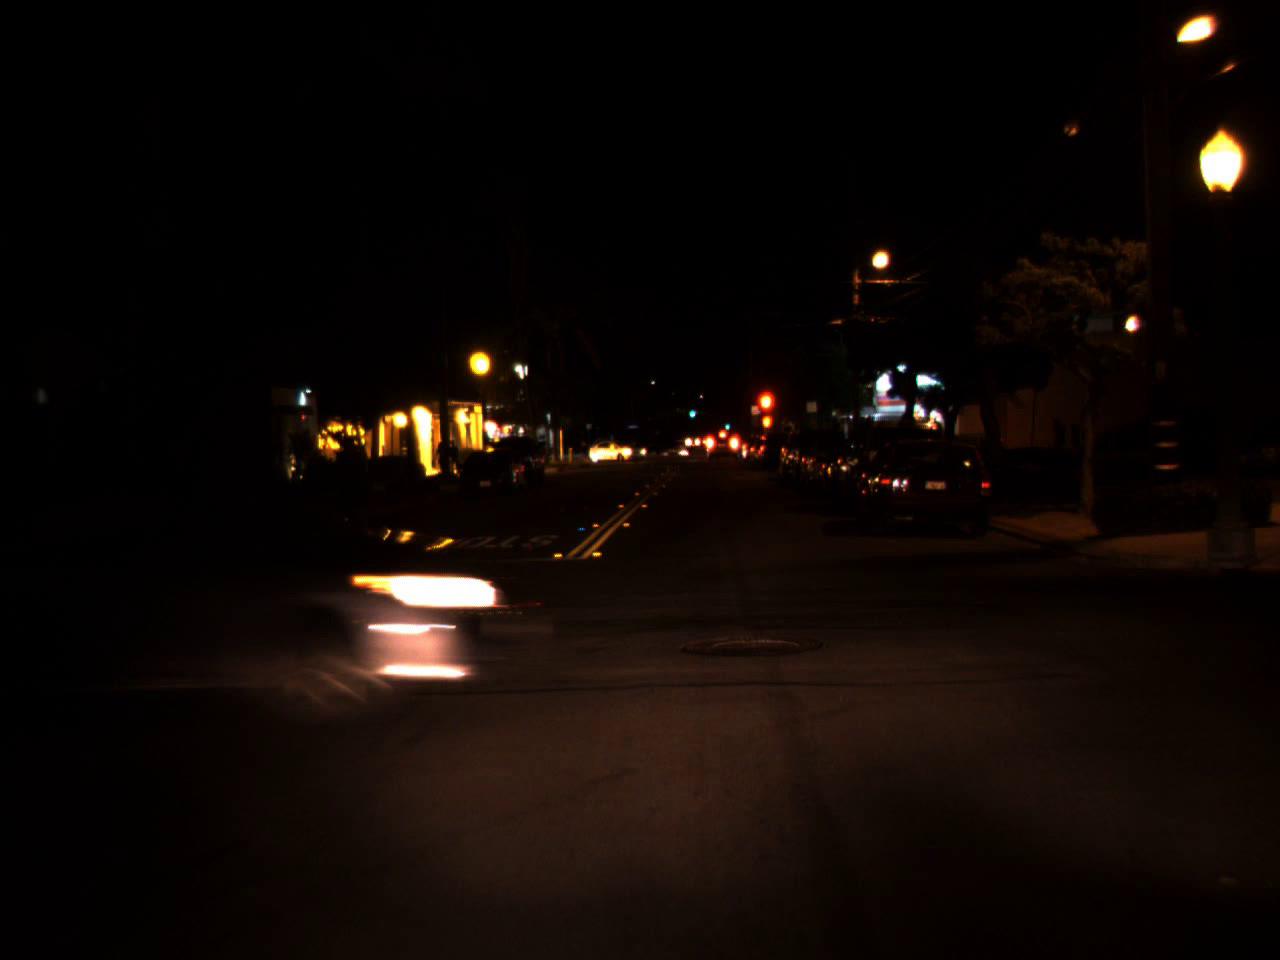go: (687, 404, 696, 419), (723, 419, 730, 431)
stop: (751, 387, 778, 441)
